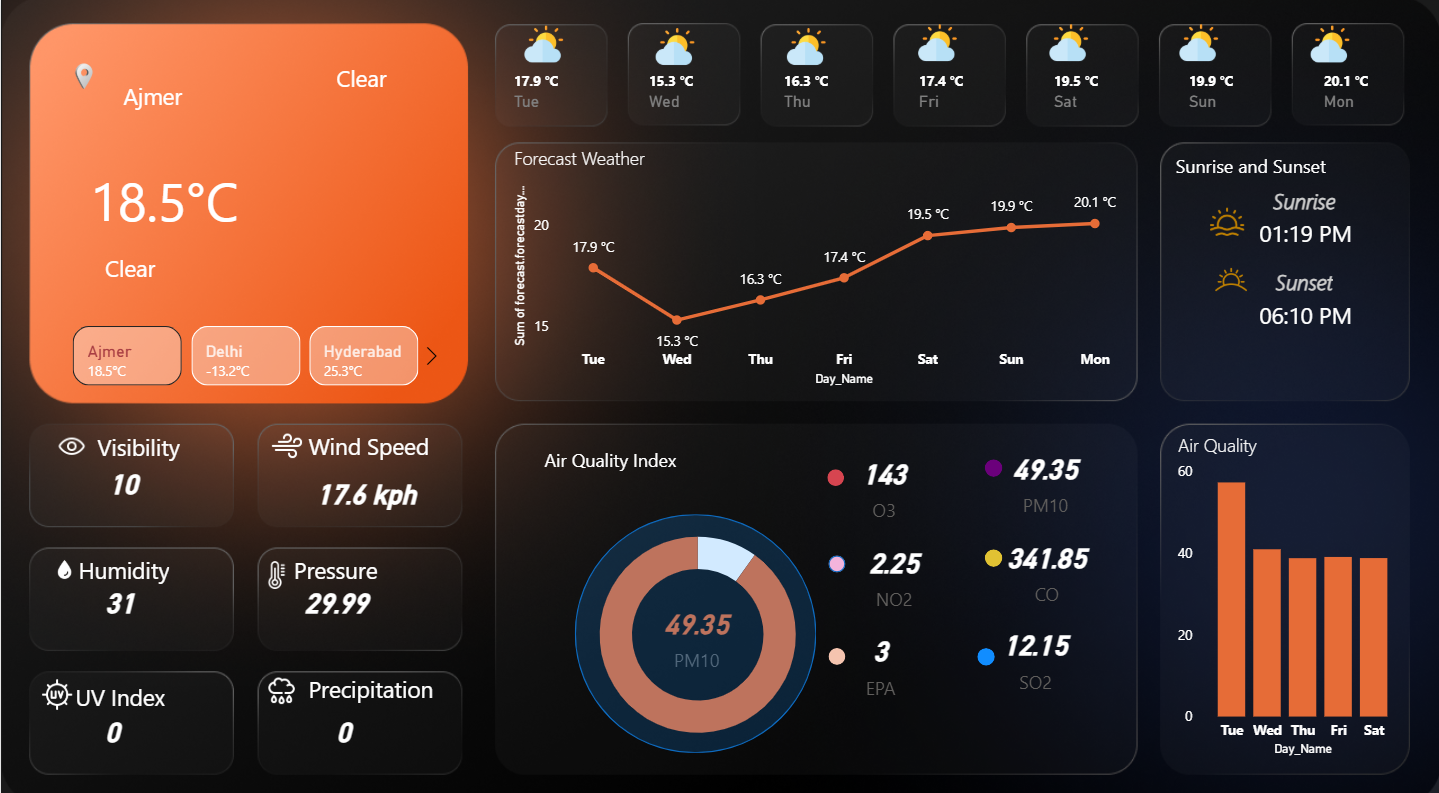

What the dashboard file says about the page in this screenshot:
{"tool":"powerbi","page":{"name":"Page 1","canvas":[1280,720],"ordinal":0},"visuals":[{"type":"advancedSlicerVisual","fields":{"Values":["Location.location.name"]},"box":[38.4,286.8,359.5,63.1],"z":0},{"type":"shape","box":[52.1,148.2,185.2,60.4],"z":1000},{"type":"shape","box":[22,209.9,185.2,60.4],"z":2000},{"type":"shape","box":[42.5,56.3,185.2,60.4],"z":3000},{"type":"shape","box":[227.8,41.2,185.2,60.4],"z":4000},{"type":"image","box":[38.4,41.2,70,60.4],"z":5000},{"type":"image","box":[38.4,380.1,48,37],"z":6000},{"type":"shape","box":[85.1,369.1,185.2,60.4],"z":7000},{"type":"image","box":[38.4,494,35.7,27.4],"z":8000},{"type":"shape","box":[16.5,477.5,185.2,60.4],"z":9000},{"type":"image","box":[20.6,599.7,57.6,38.4],"z":10000},{"type":"shape","box":[63.1,603.8,85.1,34.3],"z":11000},{"type":"image","box":[227.8,378.7,52.1,38.4],"z":12000},{"type":"shape","box":[255.2,373.2,142.7,48],"z":13000},{"type":"image","box":[228,493.4,35,38.6],"z":14000},{"type":"shape","box":[237.4,494,119.4,27.4],"z":15000},{"type":"image","box":[227.8,596.9,42.5,38.4],"z":16000},{"type":"shape","box":[262.1,596.9,133.1,34.3],"z":17000},{"type":"card","fields":{"Values":["Sum(Current.current.humidity)"]},"box":[63.1,505,85.1,65.9],"z":18000},{"type":"card","fields":{"Values":["Sum(Current.current.pressure_in)"]},"box":[255.2,509.1,85.1,57.6],"z":19000},{"type":"card","fields":{"Values":["Sum(Current.current.vis_km)"]},"box":[66.4,399.3,84.5,66.4],"z":20000},{"type":"card","fields":{"Values":["Sum(Current.current.air_quality.pm10)"]},"box":[890.4,383.6,77.2,91.7],"z":21000},{"type":"card","fields":{"Values":["Sum(Current.current.uv)"]},"box":[56.3,618.9,85.1,65.9],"z":22000},{"type":"card","fields":{"Values":["Sum(Current.current.precip_in)"]},"box":[262.1,618.9,85.1,65.9],"z":23000},{"type":"actionButton","box":[0,0,100,40],"z":24000},{"type":"advancedSlicerVisual","fields":{"Values":["forcast_Day.Day_Name"]},"box":[437.7,17.8,842.5,130.4],"z":25000},{"type":"image","box":[424,19.2,116.6,43.9],"z":26000},{"type":"image","box":[540.7,20.6,116.6,43.9],"z":27000},{"type":"image","box":[657.3,20.6,116.6,43.9],"z":28000},{"type":"image","box":[773.9,17.8,116.6,43.9],"z":29000},{"type":"image","box":[890.6,17.8,116.6,43.9],"z":30000},{"type":"image","box":[1007.2,17.8,116.6,43.9],"z":31000},{"type":"image","box":[1123.8,19.2,116.6,43.9],"z":32000},{"type":"lineChart","title":"Forecast Weather","fields":{"Y":["Sum(forcast_Day.forecast.forecastday.day.avgtemp_c)"],"Category":["forcast_Day.Day_Name"]},"box":[451.2,131.5,556.2,218.4],"z":33000},{"type":"shape","box":[1018.8,119.2,184.3,59.6],"z":34000},{"type":"shape","box":[1066.5,178.6,185.8,60.3],"z":35000},{"type":"shape","box":[1065.3,222,185.8,60.3],"z":36000},{"type":"shape","box":[1065.3,149.6,185.8,60.3],"z":37000},{"type":"image","box":[1066.5,178.6,45.8,39.8],"z":38000},{"type":"image","box":[1066.5,226.8,54.3,47.1],"z":39000},{"type":"columnChart","title":"Air Quality","fields":{"Category":["forcast_Day.Day_Name"],"Y":["Sum(forcast_Day.forecast.forecastday.day.air_quality.pm10)"]},"box":[1041.2,386.1,209.9,293.2],"z":40000},{"type":"shape","box":[1066.5,250.9,185.8,60.3],"z":41000},{"type":"shape","box":[450,380,183.4,60.3],"z":42000},{"type":"card","fields":{"Values":["Sum(Current.current.air_quality.co)"]},"box":[881.9,462.1,95.3,91.7],"z":43000},{"type":"card","fields":{"Values":["Sum(Current.current.air_quality.so2)"]},"box":[872.3,540.5,95.3,91.7],"z":44000},{"type":"card","fields":{"Values":["Sum(Current.current.air_quality.o3)"]},"box":[746.8,387.3,77.2,91.7],"z":45000},{"type":"card","fields":{"Values":["Sum(Current.current.air_quality.no2)"]},"box":[755.2,466.9,77.2,91.7],"z":46000},{"type":"card","fields":{"Values":["Sum(Current.current.air_quality.us-epa-index)"]},"box":[743.2,545.3,77.2,91.7],"z":47000},{"type":"shape","box":[734.7,418.6,15,15],"z":48000},{"type":"card","fields":{"Values":["_Measure.Wind_Speed"]},"box":[270.2,407.8,109.8,66.4],"z":49000},{"type":"shape","box":[735.9,495.8,15,15],"z":50000},{"type":"shape","box":[735.9,577.9,15,15],"z":51000},{"type":"shape","box":[874.7,410.2,15.7,15.7],"z":52000},{"type":"shape","box":[874.7,489.8,15.7,15.7],"z":53000},{"type":"shape","box":[867.4,577.9,15.7,15.7],"z":54000},{"type":"card","fields":{"Values":["Sum(Current.current.air_quality.pm10)"]},"box":[580.3,521.2,77.2,91.7],"z":55000},{"type":"donutChart","fields":{"Y":["Sum(Current.current.air_quality.pm10)","_Measure.Left_Value_PM10"]},"box":[450,452.4,339,228],"z":55001},{"type":"shape","box":[510.3,458.4,214.7,212.3],"z":55002}]}

Visuals, with their boxes in screenshot pixels (x1, y1, x2, y2), scaled from the page's 1280x720 canvas onto the 1439x793 screenshot:
advancedSlicerVisual - Location.location.name: bbox=(43, 316, 447, 385)
shape: bbox=(59, 163, 267, 230)
shape: bbox=(25, 231, 233, 298)
shape: bbox=(48, 62, 256, 129)
shape: bbox=(256, 45, 464, 112)
image: bbox=(43, 45, 122, 112)
image: bbox=(43, 419, 97, 459)
shape: bbox=(96, 407, 304, 473)
image: bbox=(43, 544, 83, 574)
shape: bbox=(19, 526, 227, 592)
image: bbox=(23, 661, 88, 703)
shape: bbox=(71, 665, 167, 703)
image: bbox=(256, 417, 315, 459)
shape: bbox=(287, 411, 447, 464)
image: bbox=(256, 543, 296, 586)
shape: bbox=(267, 544, 401, 574)
image: bbox=(256, 657, 304, 700)
shape: bbox=(295, 657, 444, 695)
card - Sum(Current.current.humidity): bbox=(71, 556, 167, 629)
card - Sum(Current.current.pressure_in): bbox=(287, 561, 383, 624)
card - Sum(Current.current.vis_km): bbox=(75, 440, 170, 513)
card - Sum(Current.current.air_quality.pm10): bbox=(1001, 422, 1088, 523)
card - Sum(Current.current.uv): bbox=(63, 682, 159, 754)
card - Sum(Current.current.precip_in): bbox=(295, 682, 390, 754)
actionButton: bbox=(0, 0, 112, 44)
advancedSlicerVisual - forcast_Day.Day_Name: bbox=(492, 20, 1438, 163)
image: bbox=(477, 21, 608, 69)
image: bbox=(608, 23, 739, 71)
image: bbox=(739, 23, 870, 71)
image: bbox=(870, 20, 1001, 68)
image: bbox=(1001, 20, 1132, 68)
image: bbox=(1132, 20, 1263, 68)
image: bbox=(1263, 21, 1394, 69)
"Forecast Weather" lineChart: bbox=(507, 145, 1133, 385)
shape: bbox=(1145, 131, 1353, 197)
shape: bbox=(1199, 197, 1408, 263)
shape: bbox=(1198, 245, 1407, 311)
shape: bbox=(1198, 165, 1407, 231)
image: bbox=(1199, 197, 1250, 241)
image: bbox=(1199, 250, 1260, 302)
"Air Quality" columnChart: bbox=(1171, 425, 1407, 748)
shape: bbox=(1199, 276, 1408, 343)
shape: bbox=(506, 419, 712, 485)
card - Sum(Current.current.air_quality.co): bbox=(991, 509, 1099, 610)
card - Sum(Current.current.air_quality.so2): bbox=(981, 595, 1088, 696)
card - Sum(Current.current.air_quality.o3): bbox=(840, 427, 926, 528)
card - Sum(Current.current.air_quality.no2): bbox=(849, 514, 936, 615)
card - Sum(Current.current.air_quality.us-epa-index): bbox=(836, 601, 922, 702)
shape: bbox=(826, 461, 843, 478)
card - _Measure.Wind_Speed: bbox=(304, 449, 427, 522)
shape: bbox=(827, 546, 844, 563)
shape: bbox=(827, 636, 844, 653)
shape: bbox=(983, 452, 1001, 469)
shape: bbox=(983, 539, 1001, 557)
shape: bbox=(975, 636, 993, 654)
card - Sum(Current.current.air_quality.pm10): bbox=(652, 574, 739, 675)
donutChart - Sum(Current.current.air_quality.pm10) x _Measure.Left_Value_PM10: bbox=(506, 498, 887, 749)
shape: bbox=(574, 505, 815, 739)
